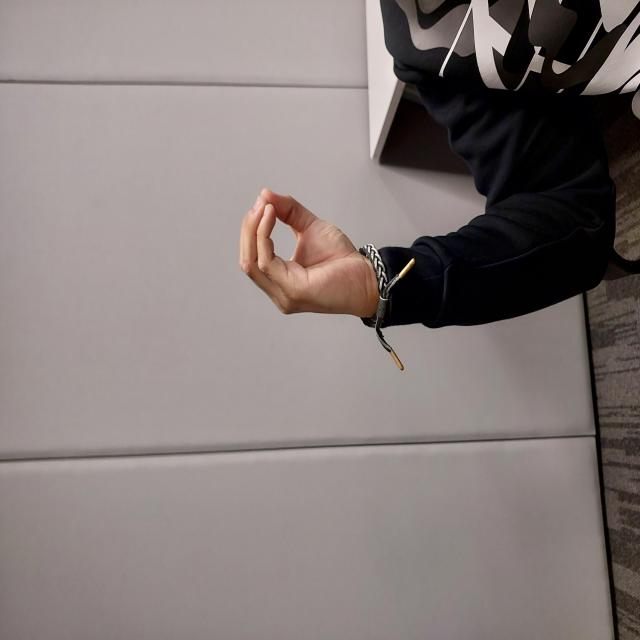O: (322, 238, 454, 376)
